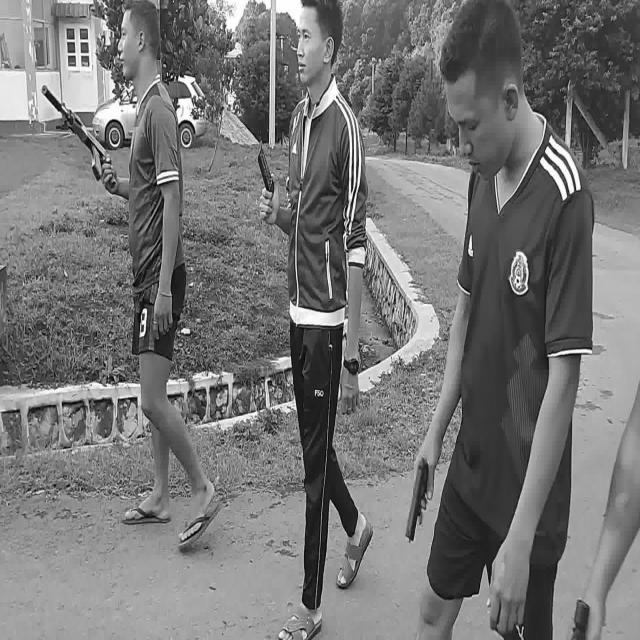gun: (40, 84, 117, 188), (405, 458, 428, 544)
